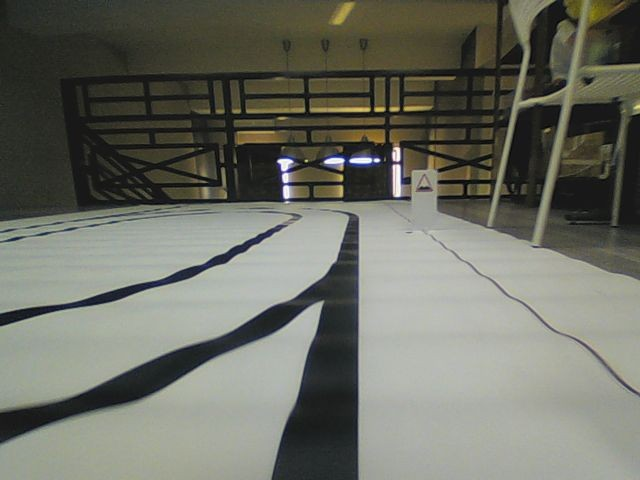Nerov: (413, 171, 435, 193)
